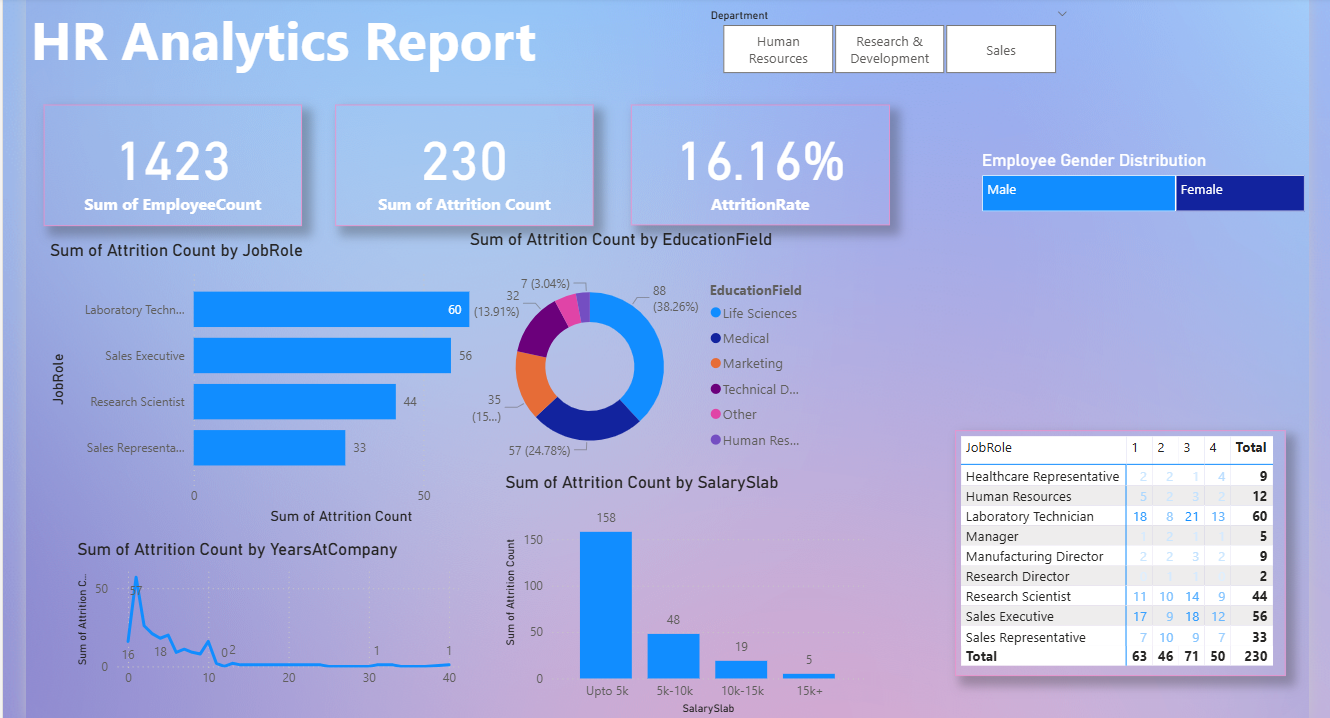

This screenshot's page, from the dashboard's own definition file:
{"tool":"powerbi","page":{"name":"Duplicate of Page 1","canvas":[1280,720],"ordinal":1},"visuals":[{"type":"card","fields":{"Values":["Sum(HR_Analytics_new (1).EmployeeCount)"]},"box":[17.8,107,258,120.8],"z":0},{"type":"textbox","box":[0,0,617.1,88.2],"z":1000},{"type":"card","fields":{"Values":["Sum(HR_Analytics_new (1).Attrition Count)"]},"box":[308.7,107,258,120.8],"z":2000},{"type":"pivotTable","fields":{"Values":["Sum(HR_Analytics_new (1).Attrition Count)"],"Rows":["HR_Analytics_new (1).JobRole"],"Columns":["HR_Analytics_new (1).JobSatisfaction"]},"box":[926.5,431.9,329.4,244.9],"z":3000},{"type":"treemap","title":" Employee Gender  Distribution","fields":{"Group":["HR_Analytics_new (1).Gender"],"Values":["Sum(HR_Analytics_new (1).EmployeeCount)"]},"box":[948.3,153.2,331.8,65.1],"z":4000},{"type":"card","fields":{"Values":["HR_Analytics_new (1).AttritionRate"]},"box":[603.2,107.4,258.2,120.6],"z":5000},{"type":"clusteredBarChart","fields":{"Category":["HR_Analytics_new (1).JobRole"],"Y":["Sum(HR_Analytics_new (1).Attrition Count)"]},"box":[18.5,243,454.7,287],"z":6000},{"type":"columnChart","fields":{"Y":["Sum(HR_Analytics_new (1).Attrition Count)"],"Category":["HR_Analytics_new (1).SalarySlab"]},"box":[473.2,474.6,368,245.8],"z":7000},{"type":"lineChart","fields":{"Category":["HR_Analytics_new (1).YearsAtCompany"],"Y":["Sum(HR_Analytics_new (1).Attrition Count)"]},"box":[46.9,541.4,390.8,157.7],"z":8000},{"type":"donutChart","fields":{"Y":["Sum(HR_Analytics_new (1).Attrition Count)"],"Category":["HR_Analytics_new (1).EducationField"]},"box":[437.7,233,352.4,252.9],"z":9000},{"type":"slicer","fields":{"Values":["HR_Analytics_new (1).Department"]},"box":[670.8,7.2,381.2,76],"z":10000}]}

Visuals, with their boxes on the page's 1280x720 design canvas (x1, y1, x2, y2). These are canvas units, not pixel positions in the 1330x718 screenshot, which may show the page scaled, cropped or inside an application window:
card - Sum(HR_Analytics_new (1).EmployeeCount): bbox=(18, 107, 276, 228)
textbox: bbox=(0, 0, 617, 88)
card - Sum(HR_Analytics_new (1).Attrition Count): bbox=(309, 107, 567, 228)
pivotTable - Sum(HR_Analytics_new (1).Attrition Count) x HR_Analytics_new (1).JobRole: bbox=(926, 432, 1256, 677)
" Employee Gender  Distribution" treemap: bbox=(948, 153, 1280, 218)
card - HR_Analytics_new (1).AttritionRate: bbox=(603, 107, 861, 228)
clusteredBarChart - HR_Analytics_new (1).JobRole x Sum(HR_Analytics_new (1).Attrition Count): bbox=(18, 243, 473, 530)
columnChart - Sum(HR_Analytics_new (1).Attrition Count) x HR_Analytics_new (1).SalarySlab: bbox=(473, 475, 841, 720)
lineChart - HR_Analytics_new (1).YearsAtCompany x Sum(HR_Analytics_new (1).Attrition Count): bbox=(47, 541, 438, 699)
donutChart - Sum(HR_Analytics_new (1).Attrition Count) x HR_Analytics_new (1).EducationField: bbox=(438, 233, 790, 486)
slicer - HR_Analytics_new (1).Department: bbox=(671, 7, 1052, 83)
